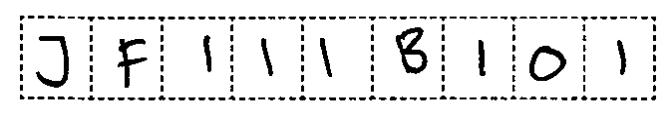0: (526, 40, 572, 86)
1: (462, 35, 502, 83), (602, 34, 639, 80), (312, 34, 346, 82), (251, 34, 283, 82), (193, 30, 224, 77)
F: (113, 32, 153, 91), (390, 24, 432, 77)
J: (28, 32, 78, 91)
